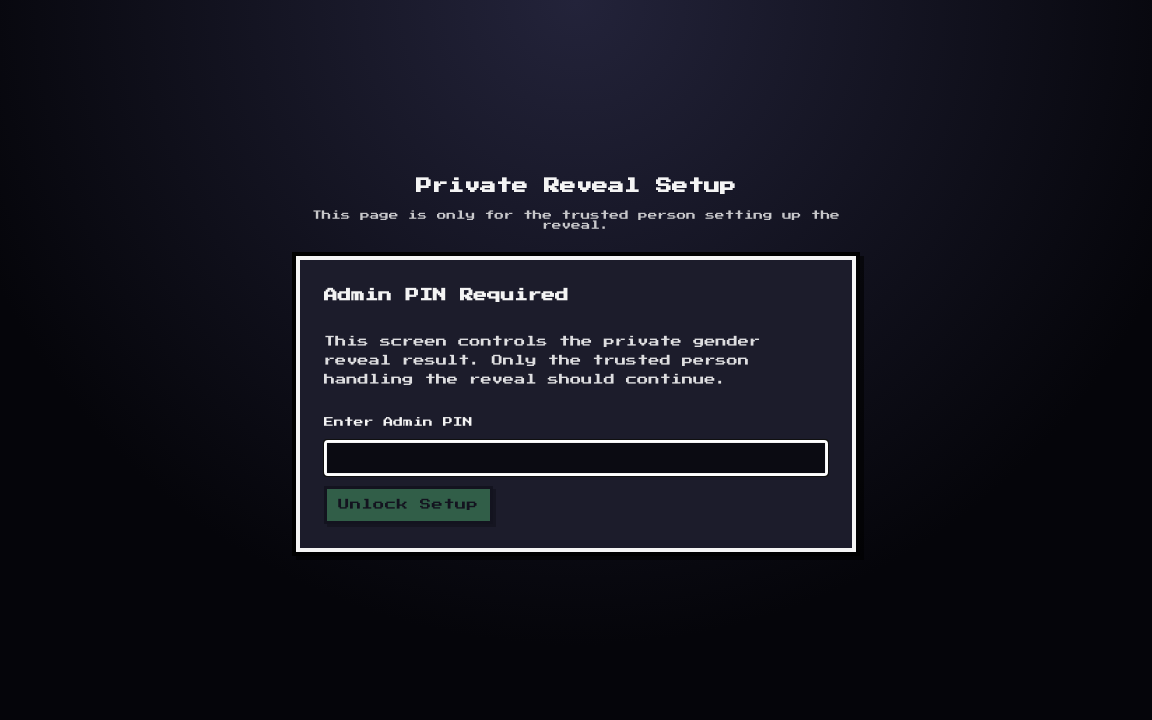
it: SetupRoute › blocks access until the correct PIN is entered
This screenshot has width=1152, height=720.
Type "wrong-pin" into the password field labelled "Enter Admin PIN" at (576, 458), box [324, 440, 828, 476]
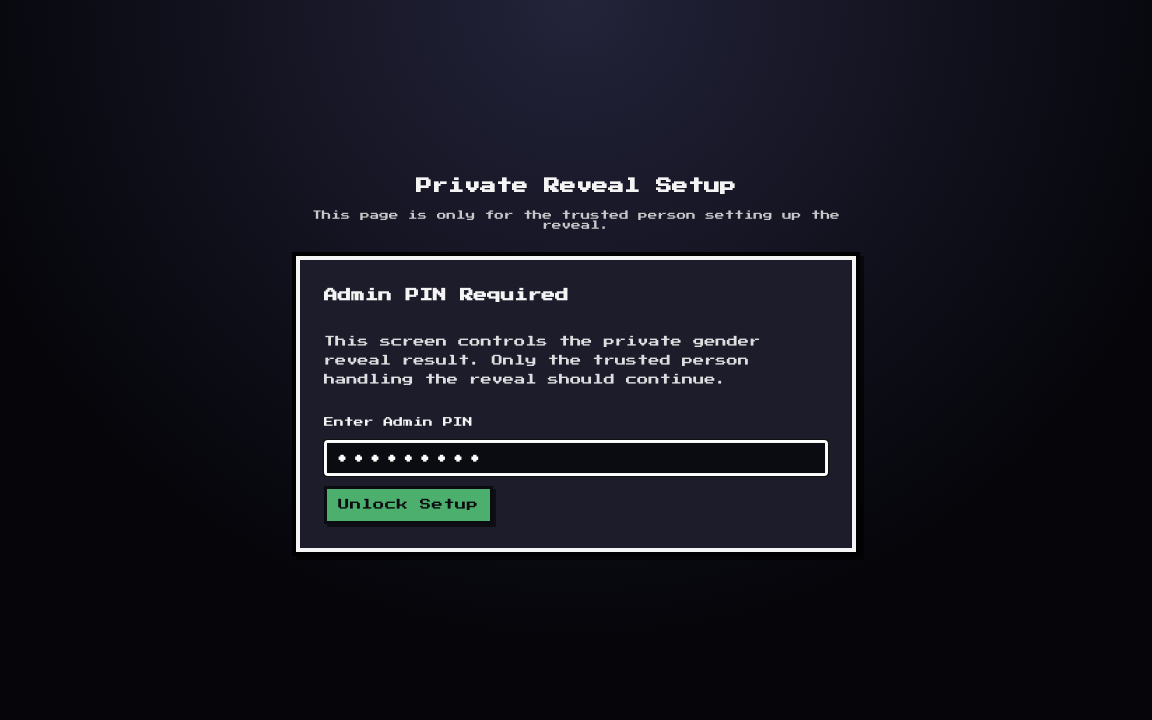
Click the button "Unlock Setup" at (408, 505), box [324, 486, 493, 524]
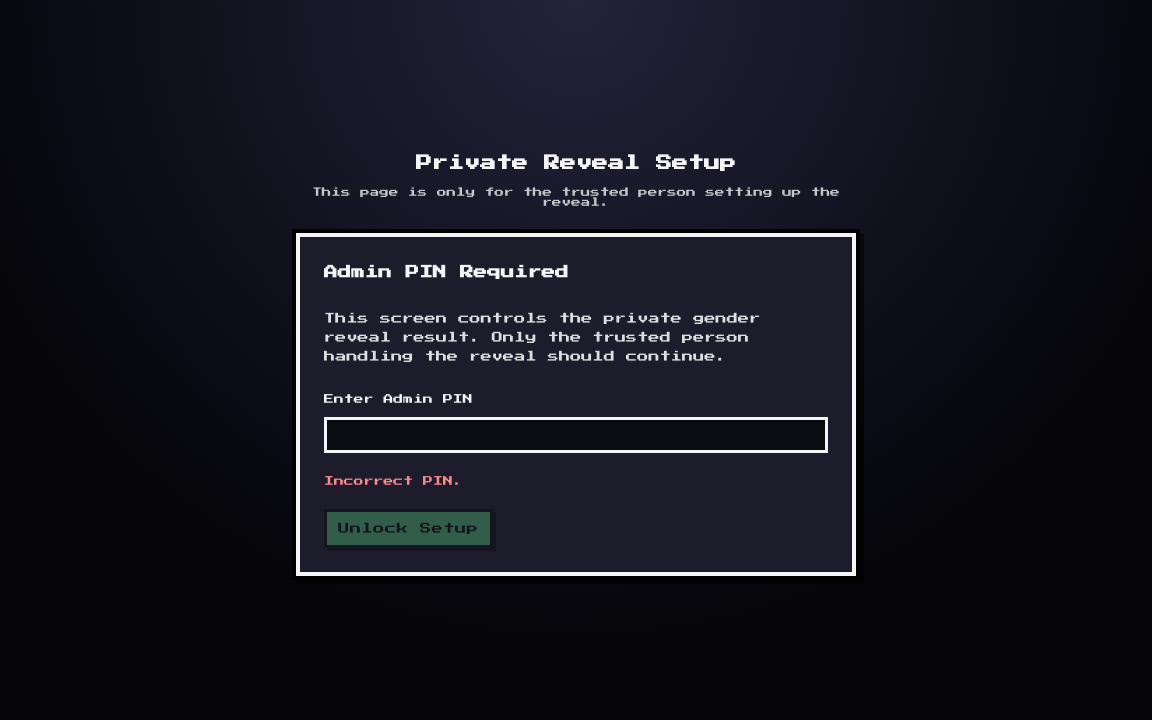
Expected: the message shows "Incorrect PIN", [324, 476, 463, 486]
Type "test-admin-pin" into the password field labelled "Enter Admin PIN" at (576, 435), box [324, 417, 828, 453]
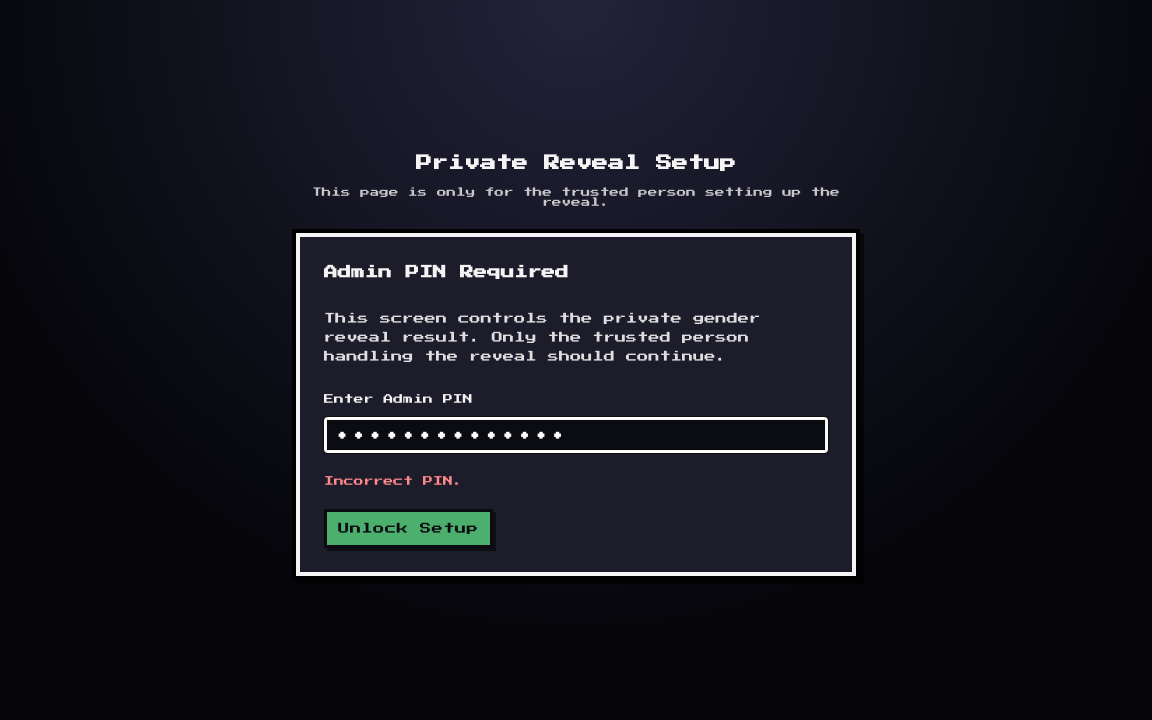
Click the button "Unlock Setup" at (408, 528), box [324, 509, 493, 548]
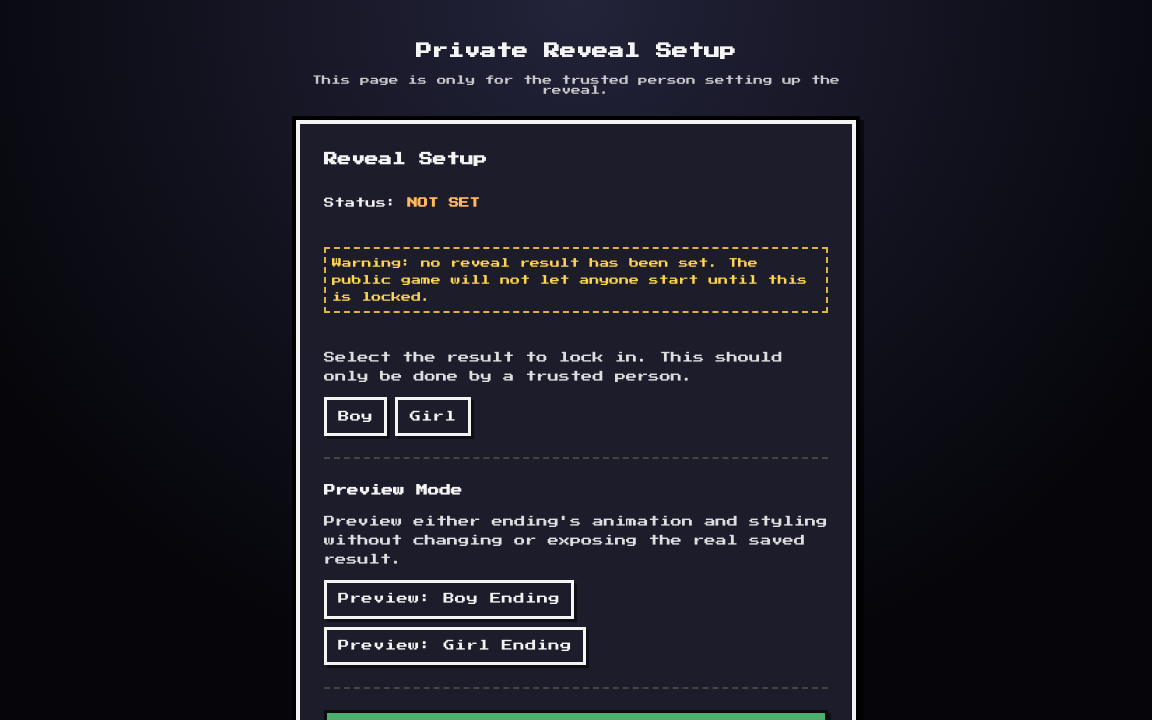
Expected: the heading "Reveal Setup" is shown, [324, 152, 487, 166]
